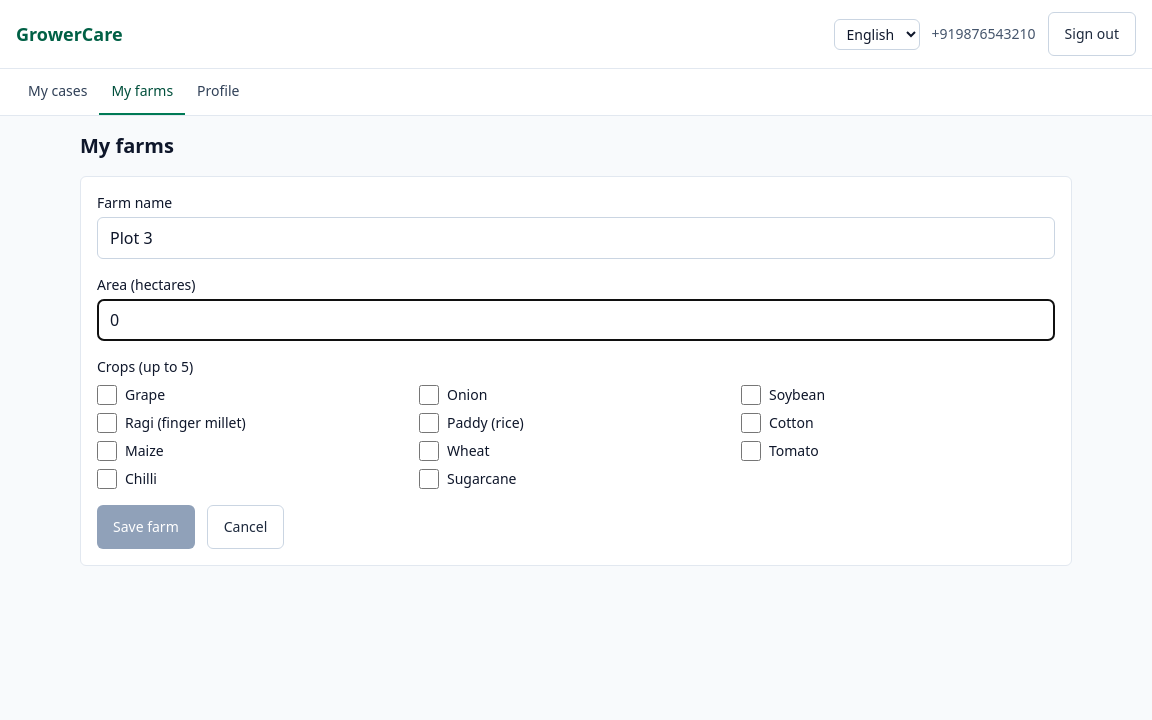
Test: SPEC-FE-02 R105 farms (PRD J3) › FE-E105 a farm needs a name, an area above 0 and 1 to 5 crops
The width and height of the screenshot is (1152, 720).
Earlier steps of the test are not shown.
Click the checkbox labelled "Wheat".
click(429, 451)  # box [419, 441, 439, 461]
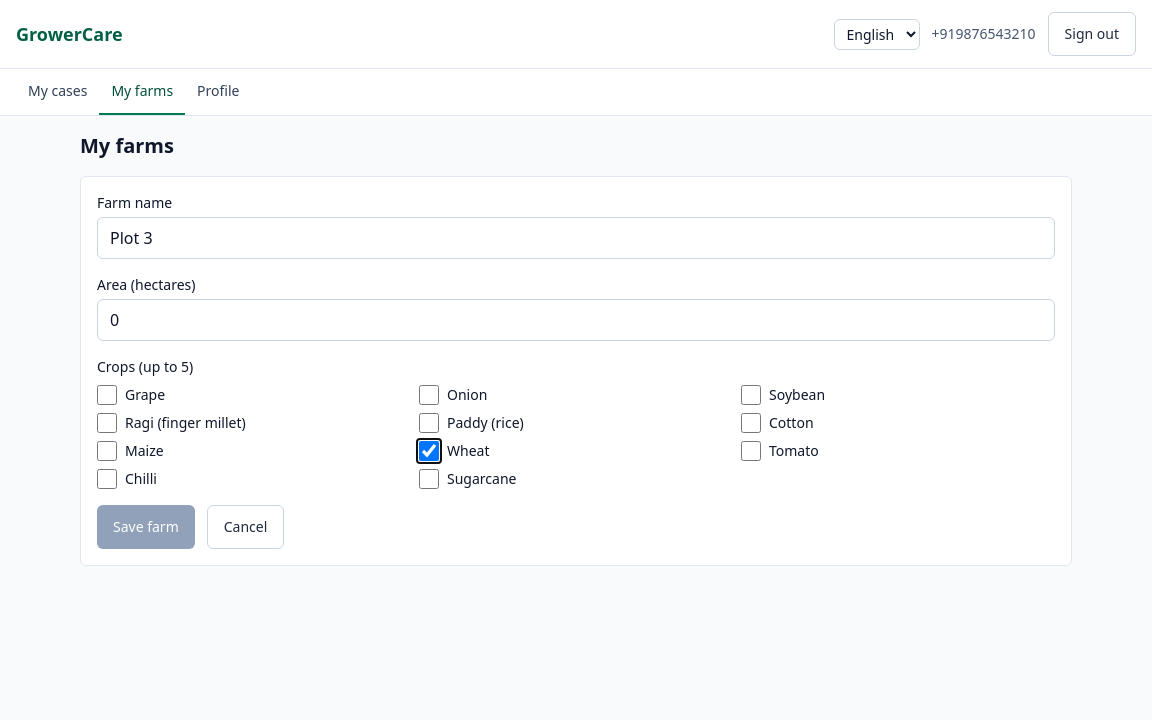
Expected: the button "Save farm" is disabled, [97, 505, 195, 549]
Replace the text in the field labelled "Area (hectares)" with "2" at (576, 320), box [97, 299, 1055, 341]
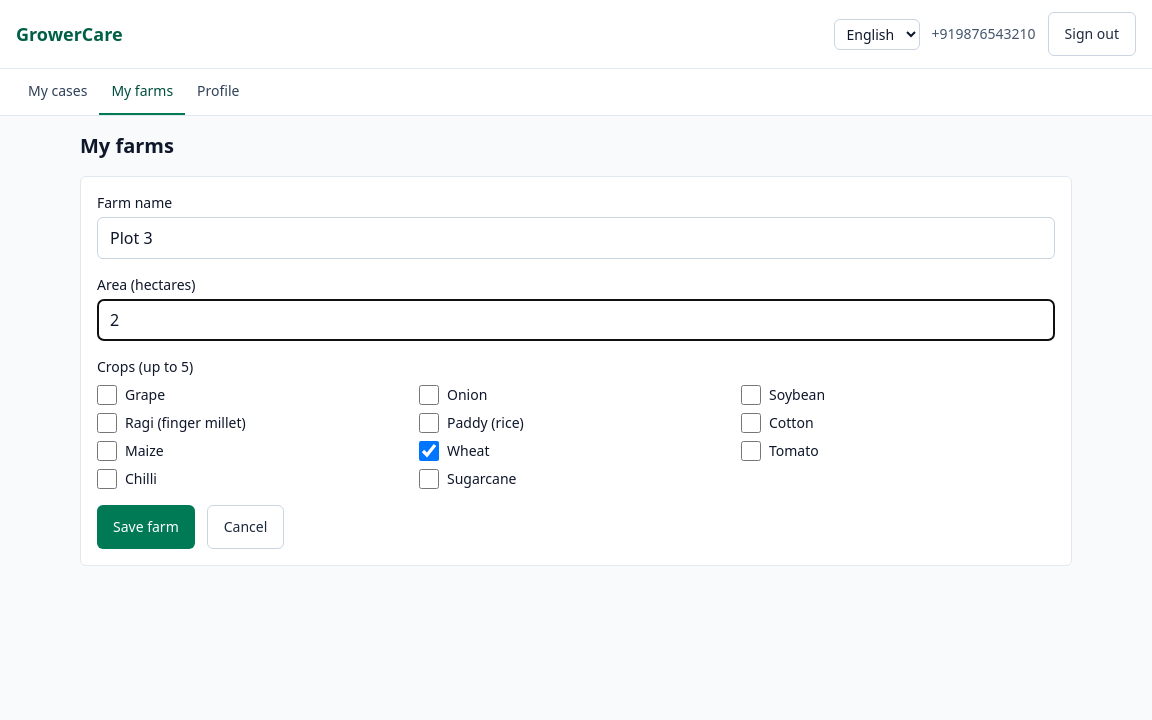
Expected: the button "Save farm" is enabled, [97, 505, 195, 549]
Click the checkbox labelled "Grape".
click(107, 395)  # box [97, 385, 117, 405]
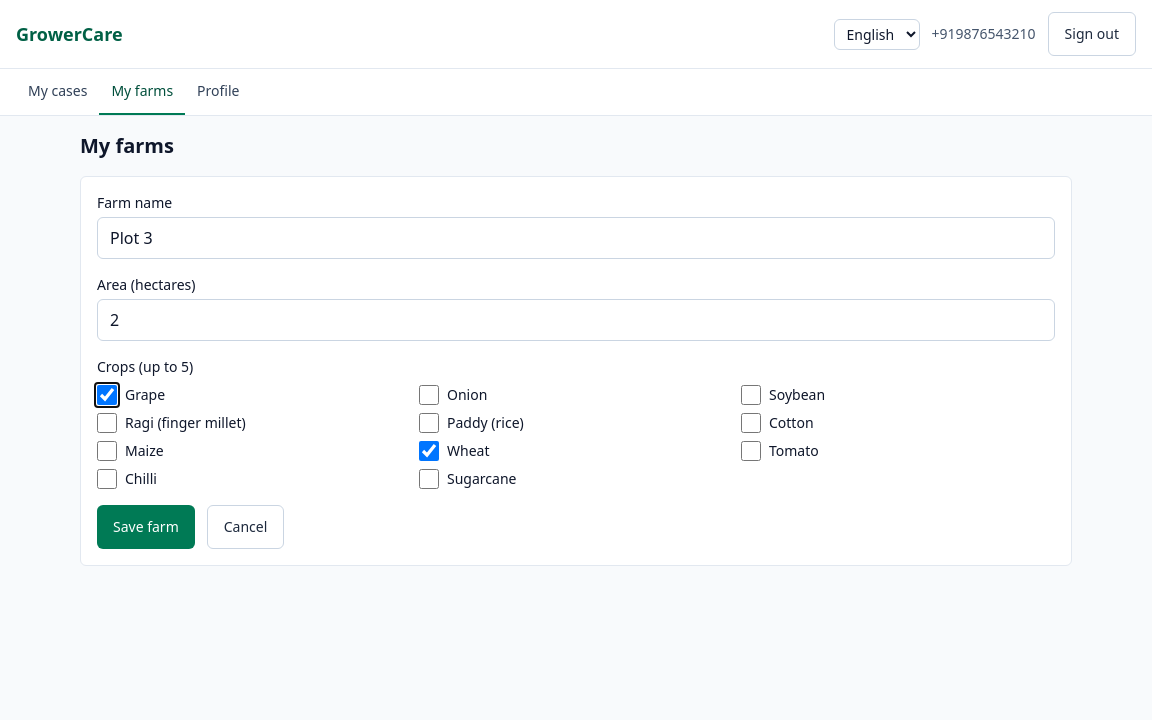
Click the checkbox labelled "Onion".
click(429, 395)  # box [419, 385, 439, 405]
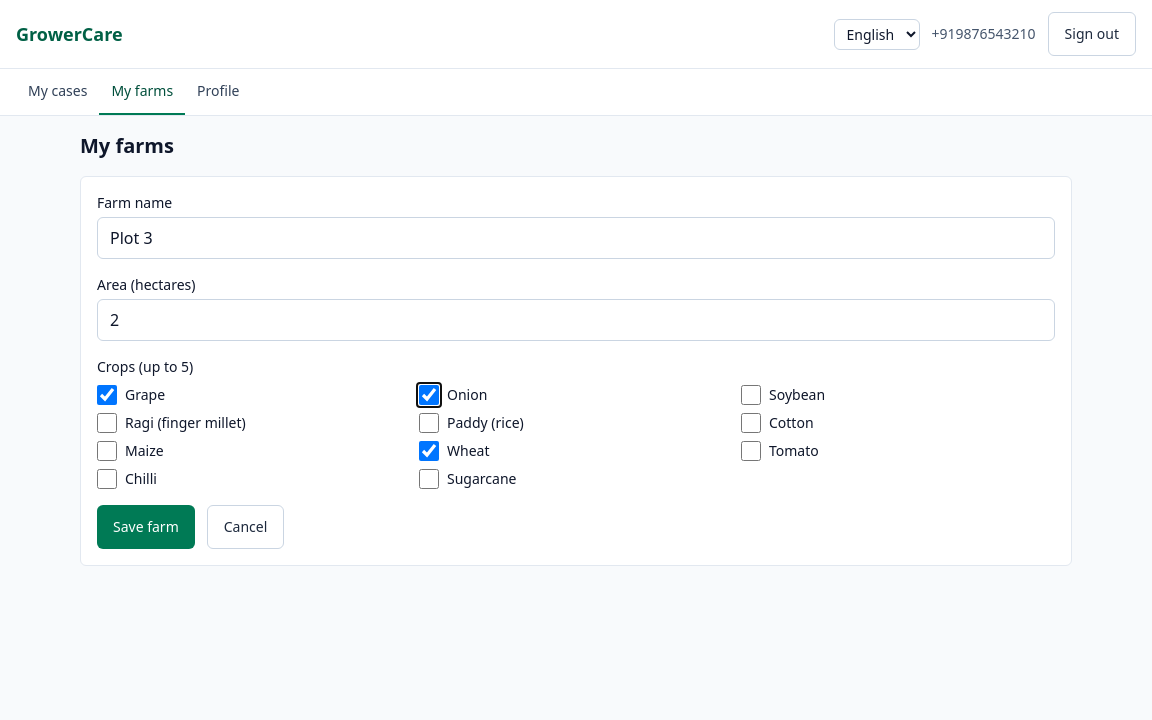
Click the checkbox labelled "Soybean".
click(751, 395)  # box [741, 385, 761, 405]
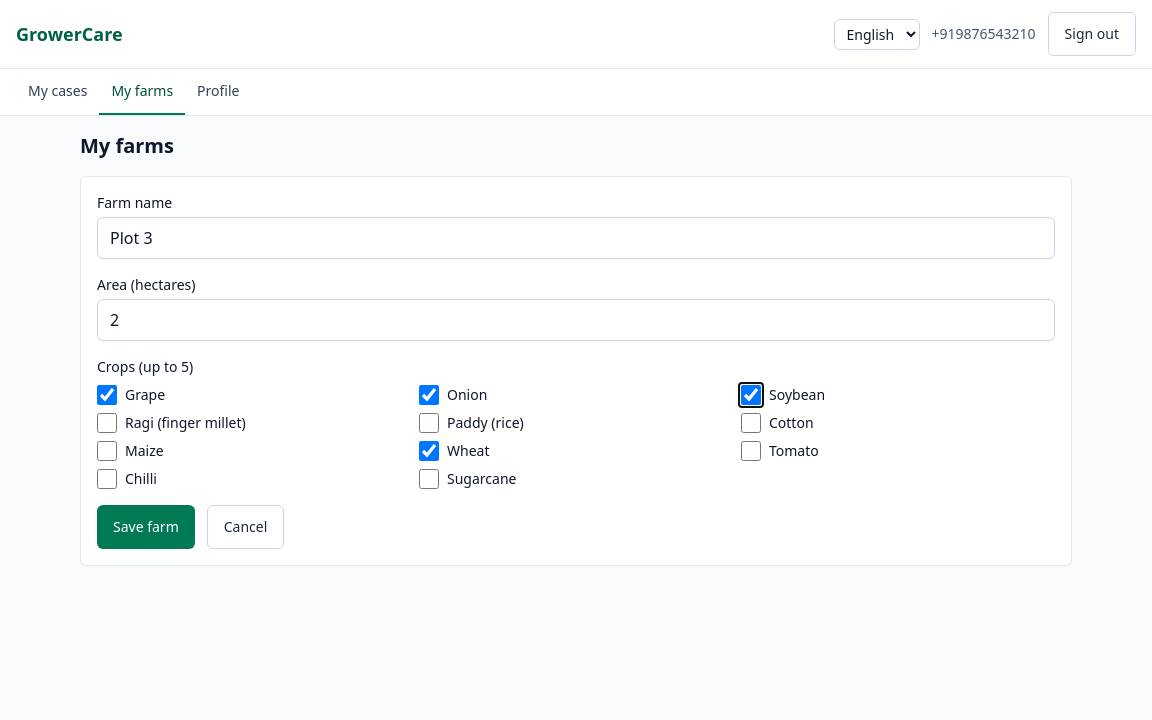
Click the checkbox labelled "Maize".
click(107, 451)  # box [97, 441, 117, 461]
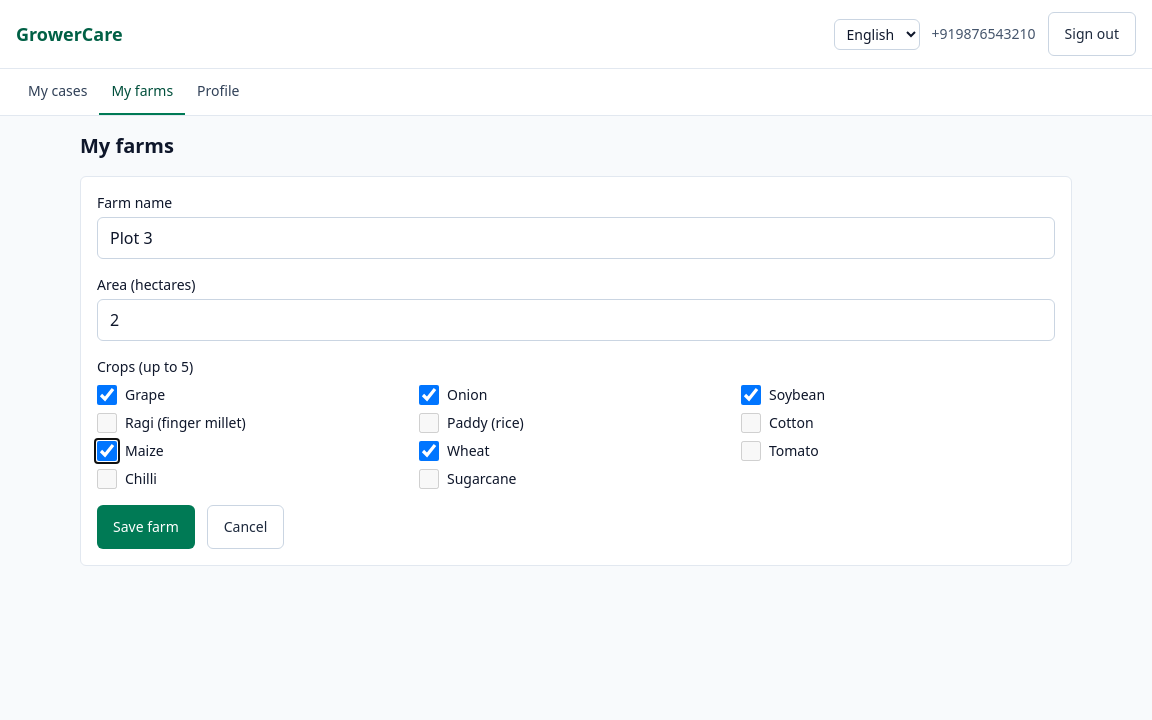
Expected: the checkbox labelled "Tomato" is disabled, [741, 441, 761, 461]
